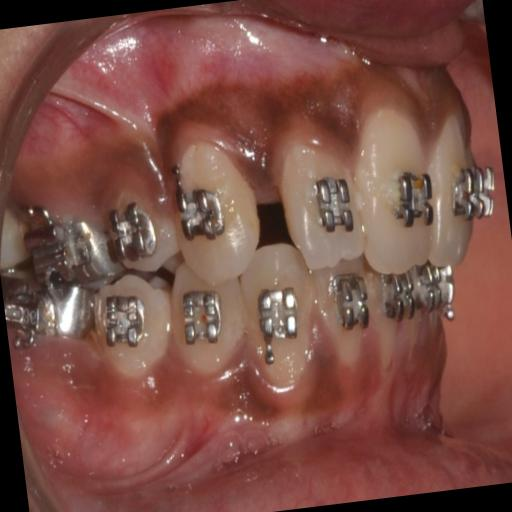correct_brace: (103, 190, 179, 280), (168, 150, 227, 248), (96, 286, 158, 358), (386, 164, 441, 236), (307, 168, 360, 238)
incorrect_brace: (277, 128, 370, 278), (104, 196, 160, 267)
